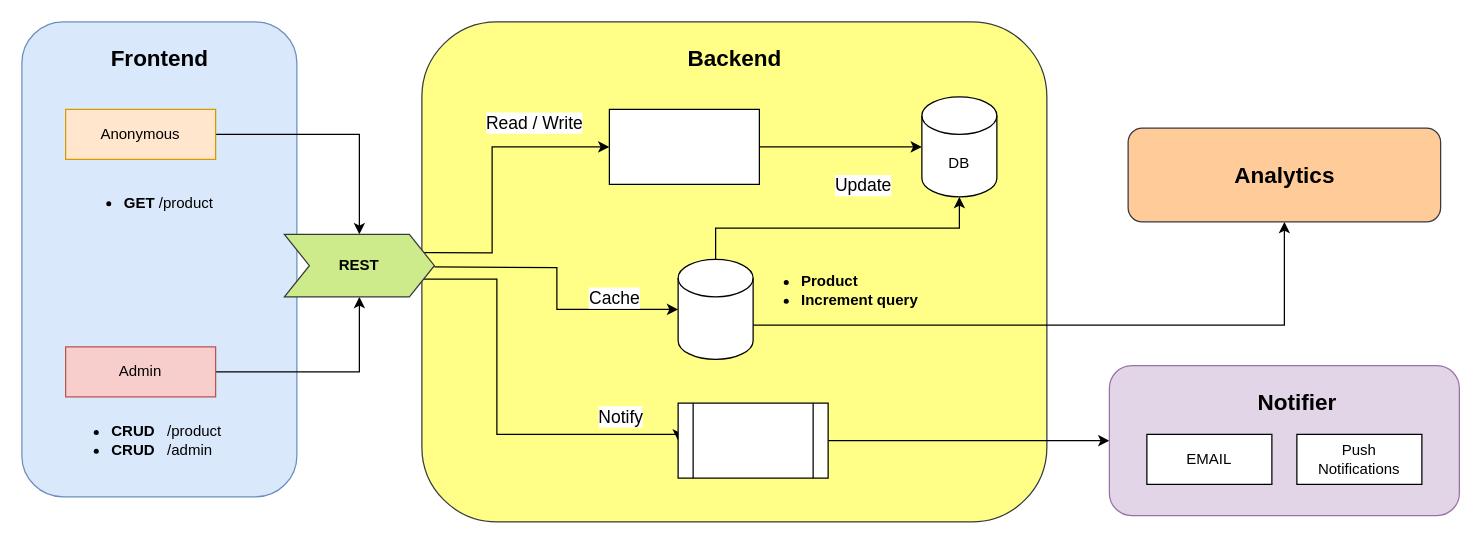
Some shapes in this 1481 by 544 pixel diagram are drawn without their labels. The shapes that lost their labels are listed below. From the top down, each one's centre as x and y in pixels, then its label:
At pixel 683 146: "CRUD Operations".
At pixel 715 308: "Redis".
At pixel 752 440: "RabbitMQ".
